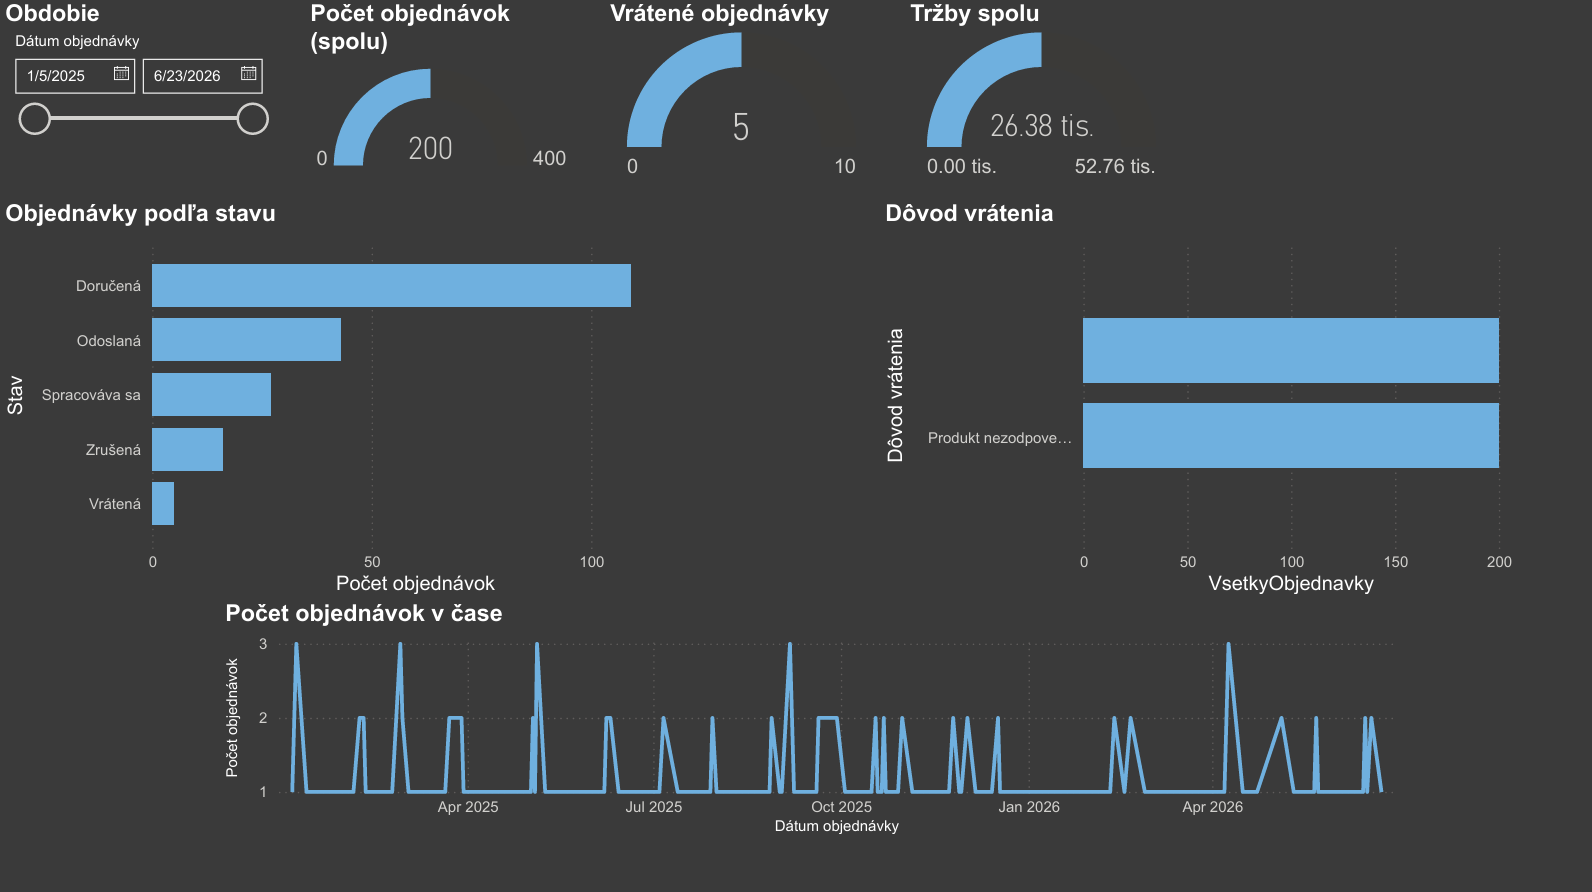

The dashboard page shown, as its layout file describes it:
{"tool":"powerbi","page":{"name":"Objednávky a vrátenia","canvas":[1280,720],"ordinal":3},"visuals":[{"type":"slicer","title":"Obdobie","fields":{"Values":["Orders.OrderDate"]},"box":[0,0,224,150],"z":0},{"type":"gauge","title":"Počet objednávok (spolu)","fields":{"Y":["Categories.Total Orders"]},"box":[244,0,220,150],"z":1000},{"type":"gauge","title":"Vrátené objednávky","fields":{"Y":["Categories.Total Orders"]},"box":[484,0,220,150],"z":2000},{"type":"gauge","title":"Tržby spolu","fields":{"Y":["Orders.Total Revenue"]},"box":[724,0,220,150],"z":3000},{"type":"clusteredBarChart","title":"Objednávky podľa stavu","fields":{"Category":["Orders.Status"],"Y":["Categories.Total Orders"]},"box":[0,160,560,320],"z":4000},{"type":"barChart","title":"Dôvod vrátenia","fields":{"Category":["Order Details.ReturnReason"],"Y":["Kategoria.VsetkyObjednavky"]},"box":[704,160,512,320],"z":5000},{"type":"lineChart","title":"Počet objednávok v čase","fields":{"Y":["Categories.Total Orders"],"Category":["Orders.OrderDate"]},"box":[176,480,960,192],"z":6000}]}

Visuals, with their boxes in screenshot pixels (x1, y1, x2, y2), scaled from the page's 1280x720 canvas onto the 1592x892 screenshot:
"Obdobie" slicer: box=[0, 0, 279, 186]
"Počet objednávok (spolu)" gauge: box=[303, 0, 577, 186]
"Vrátené objednávky" gauge: box=[602, 0, 876, 186]
"Tržby spolu" gauge: box=[900, 0, 1174, 186]
"Objednávky podľa stavu" clusteredBarChart: box=[0, 198, 696, 595]
"Dôvod vrátenia" barChart: box=[876, 198, 1512, 595]
"Počet objednávok v čase" lineChart: box=[219, 595, 1413, 833]
